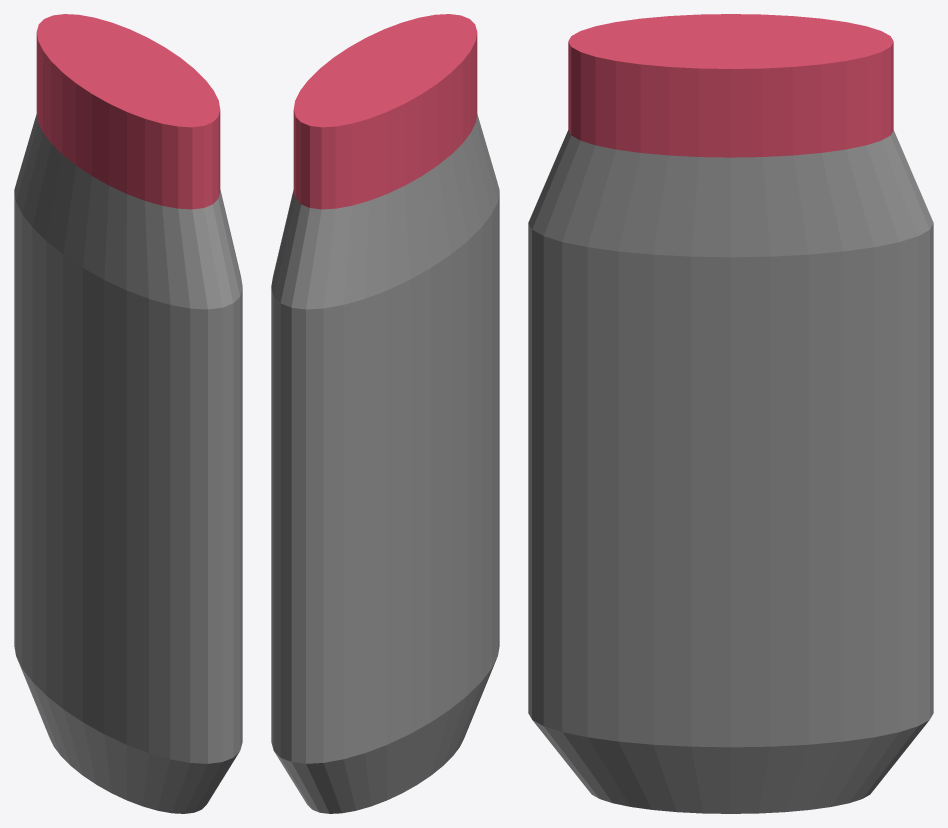
File: Shampoo_003.fbx
3 renders of one model, left to right at view 1: azimuth 30°, elevation 25°; view 2: azimuth 150°, elevation 25°; view 3: azimuth 270°, elevation 25°, orthographic. The views are drawn at different scales.
Parts seen in each view (by area): view 1: Shampoo.003; view 2: Shampoo.003; view 3: Shampoo.003.
Boxes of the visible parts, left/top/right/bottom form: Shampoo.003: left=14, top=14, right=242, bottom=813; Shampoo.003: left=271, top=14, right=499, bottom=813; Shampoo.003: left=528, top=14, right=933, bottom=813.
Size of the model in its own units: 8.97 by 45.65 by 22.41.
